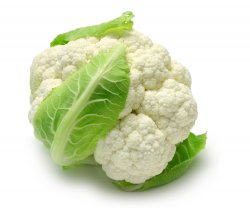cauliflower: (32, 14, 199, 182)
